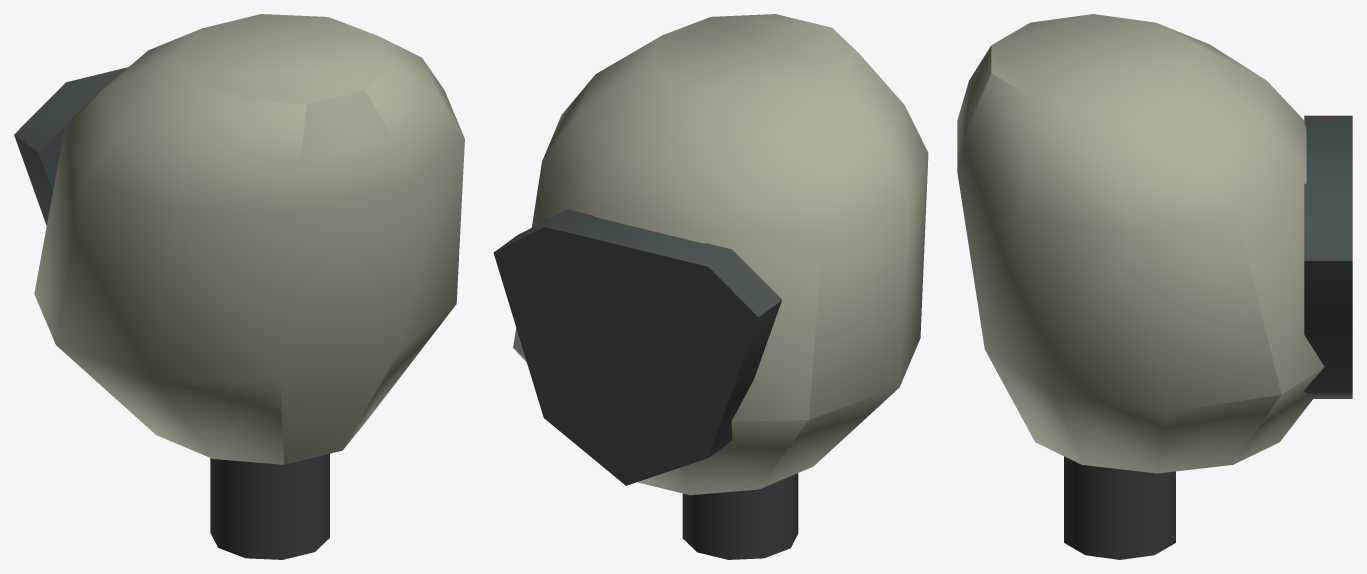
The model's file is lancer_head.obj.
3 views of the same model, side by side, from view 1: azimuth 30°, elevation 25°; view 2: azimuth 150°, elevation 25°; view 3: azimuth 270°, elevation 25° (orthographic). The views are drawn at different scales.
Parts seen in each view (by area): view 1: rigid_shell_001, rigid_shell_000, rigid_shell_002; view 2: rigid_shell_001, rigid_shell_002, rigid_shell_000; view 3: rigid_shell_001, rigid_shell_002, rigid_shell_000.
Part boxes in pixels (left/top/right/bottom): rigid_shell_001: left=34, top=14, right=464, bottom=464; rigid_shell_000: left=210, top=453, right=329, bottom=559; rigid_shell_002: left=14, top=67, right=128, bottom=225; rigid_shell_001: left=513, top=14, right=928, bottom=495; rigid_shell_002: left=493, top=209, right=781, bottom=485; rigid_shell_000: left=682, top=473, right=798, bottom=559; rigid_shell_001: left=957, top=14, right=1324, bottom=473; rigid_shell_002: left=1304, top=115, right=1352, bottom=398; rigid_shell_000: left=1064, top=456, right=1175, bottom=559.
Size of the model in its own units: 0.4 by 0.49 by 0.3687.
